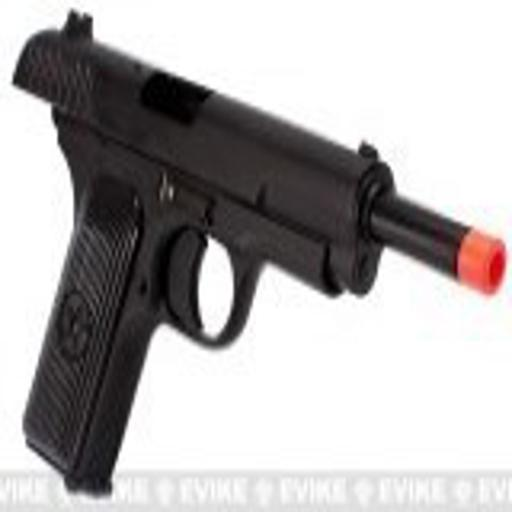Handgun: (8, 7, 501, 489)
